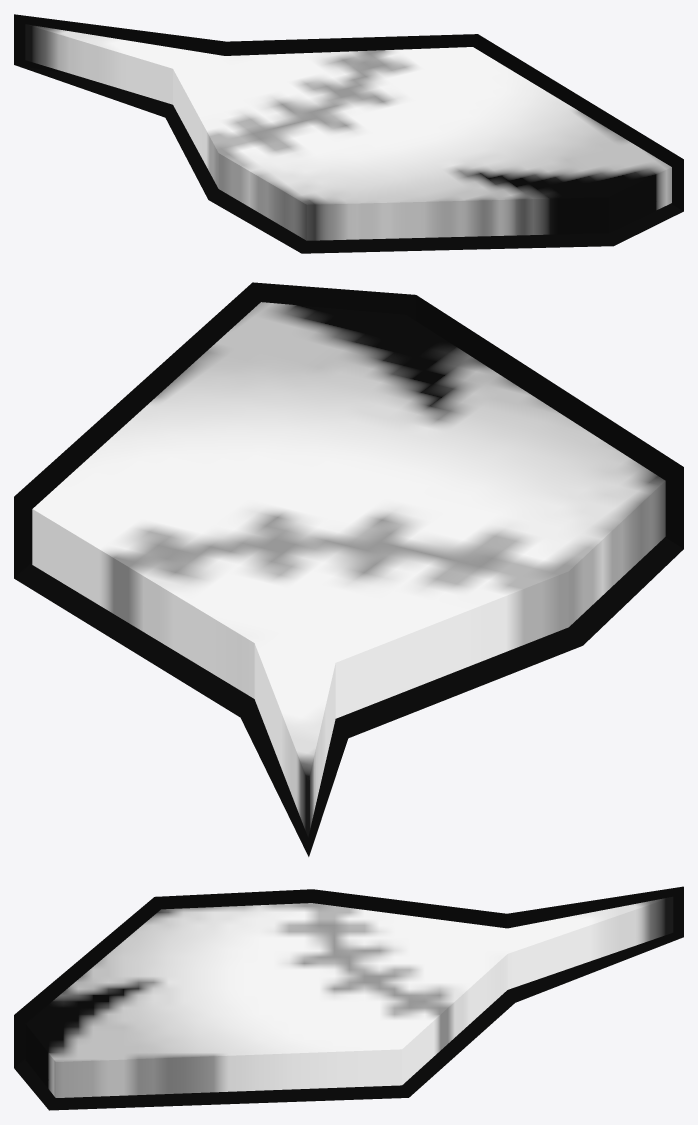
File: Item_Apparel_KidTribal_Things_Pawn_Humanlike_Apparel_KidTribal_KidTribalwear_Child.glb
3 views of the same model, one above another, from view 1: azimuth 30°, elevation 25°; view 2: azimuth 150°, elevation 25°; view 3: azimuth 270°, elevation 25° (orthographic). The views are drawn at different scales.
Parts seen in each view (by area): view 1: Body, Outline; view 2: Body, Outline; view 3: Body, Outline.
Boxes of the visible parts, left/top/right/bottom form: Body: left=25, top=24, right=671, bottom=240; Outline: left=14, top=14, right=683, bottom=253; Body: left=32, top=302, right=665, bottom=837; Outline: left=14, top=282, right=683, bottom=856; Body: left=25, top=896, right=673, bottom=1097; Outline: left=14, top=886, right=683, bottom=1110.
Bounding box in the file's own units: 0.2119 × 0.0331 × 0.3476.
Materials: 2 (1 with a texture image).
